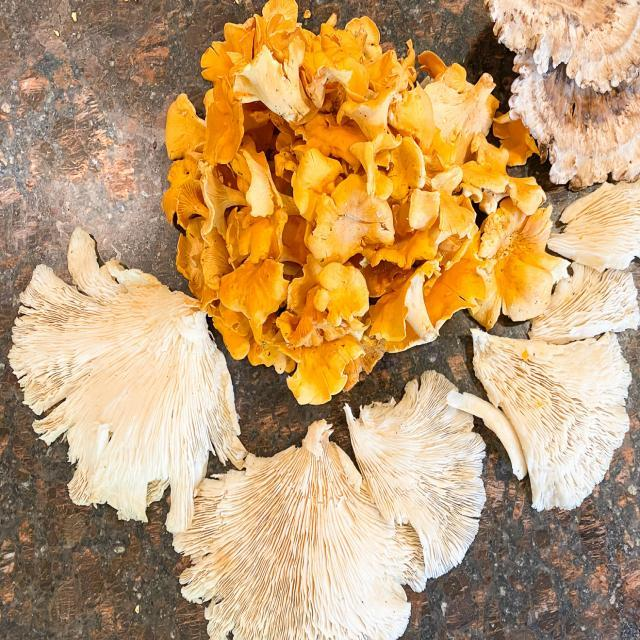Cantharellus cibarius: (168, 6, 554, 401), (13, 229, 245, 525), (171, 422, 424, 640), (344, 370, 484, 579), (473, 327, 632, 510)
